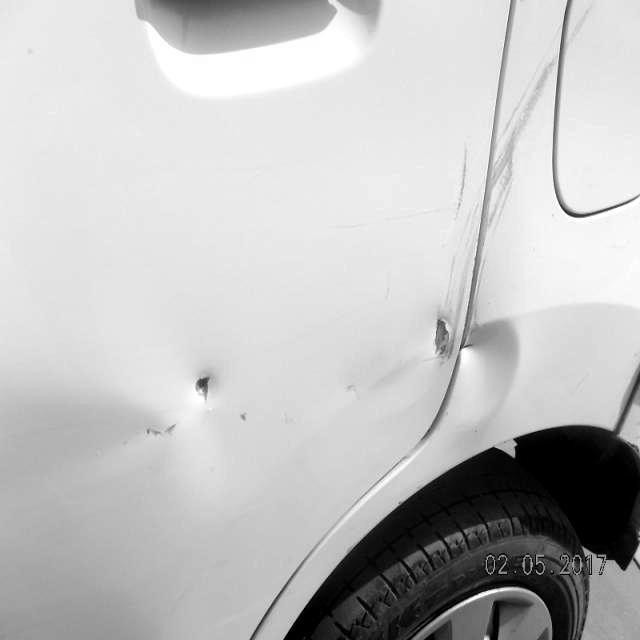doorouter-dent: (51, 263, 461, 440)
quaterpanel-dent: (460, 254, 584, 445)
